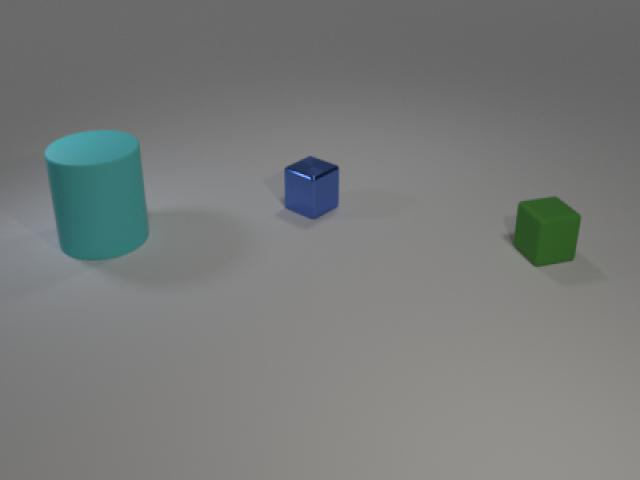cylinder: (38, 122, 159, 271)
